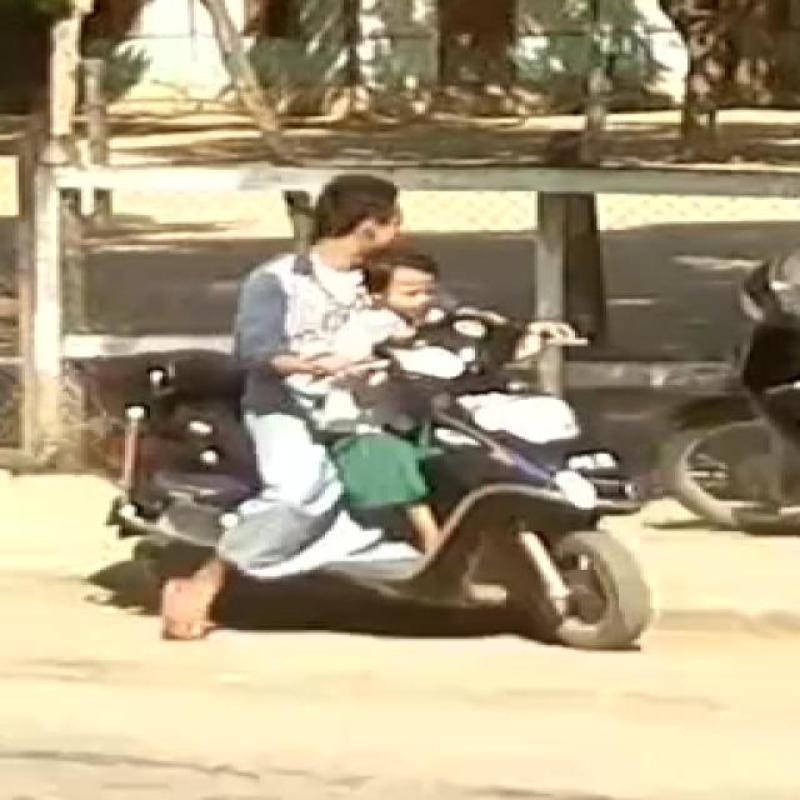nohelmet: (286, 163, 428, 251)
